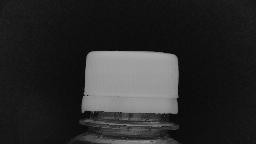Loose Cap: (74, 88, 186, 132)
